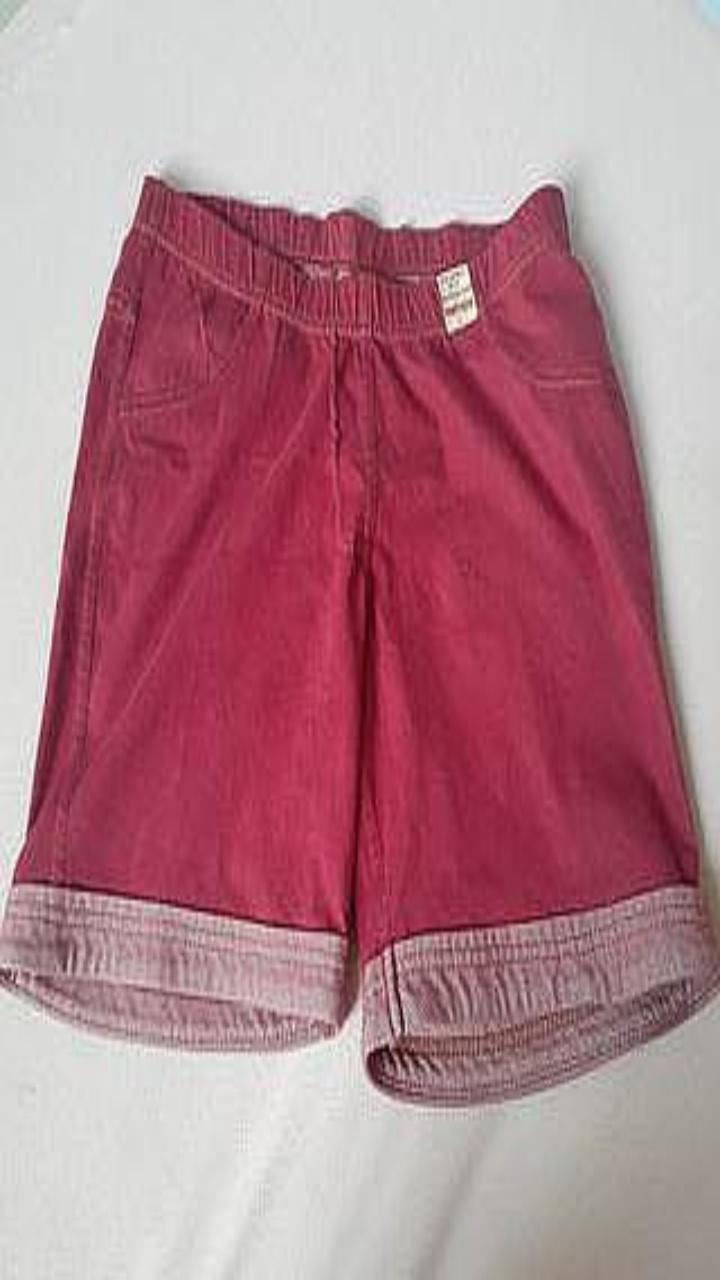Shorts: (0, 176, 719, 1103)
